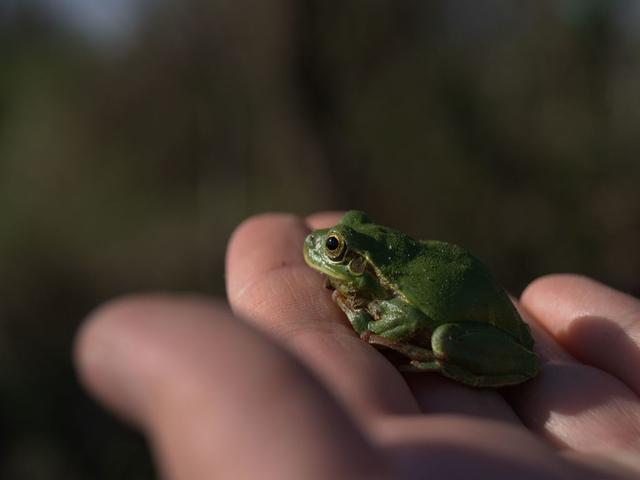frog: (276, 209, 598, 398)
